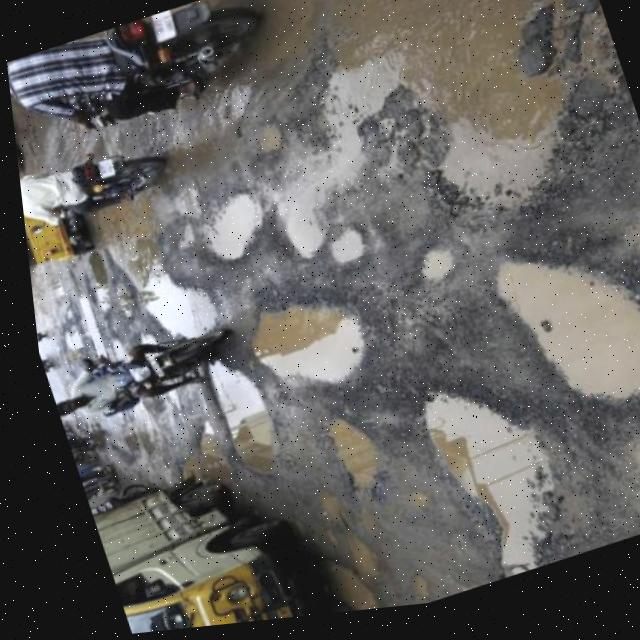Pothole: (0, 0, 640, 372), (378, 363, 577, 606), (468, 225, 640, 469), (210, 278, 411, 421), (182, 350, 289, 485), (176, 182, 291, 299), (125, 401, 232, 519), (557, 406, 640, 557), (125, 243, 231, 352), (282, 530, 401, 621), (297, 408, 389, 519), (282, 479, 371, 576), (39, 278, 94, 367), (319, 532, 385, 597), (405, 224, 461, 285), (317, 224, 371, 283)
